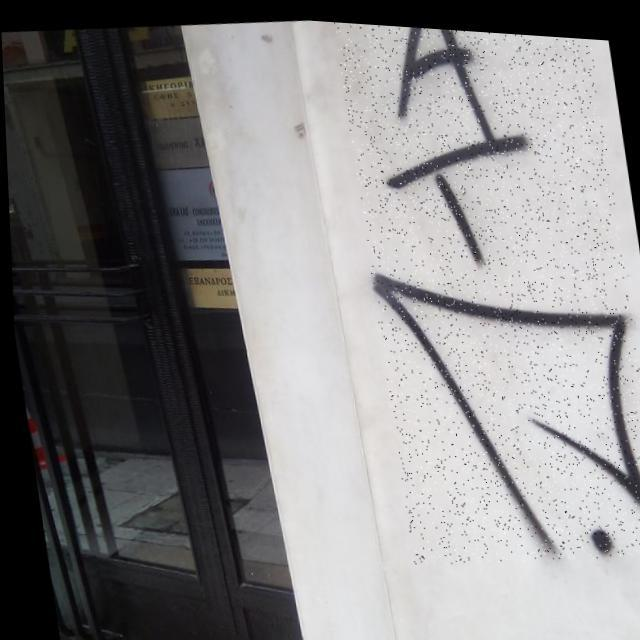-: (333, 18, 640, 572)
